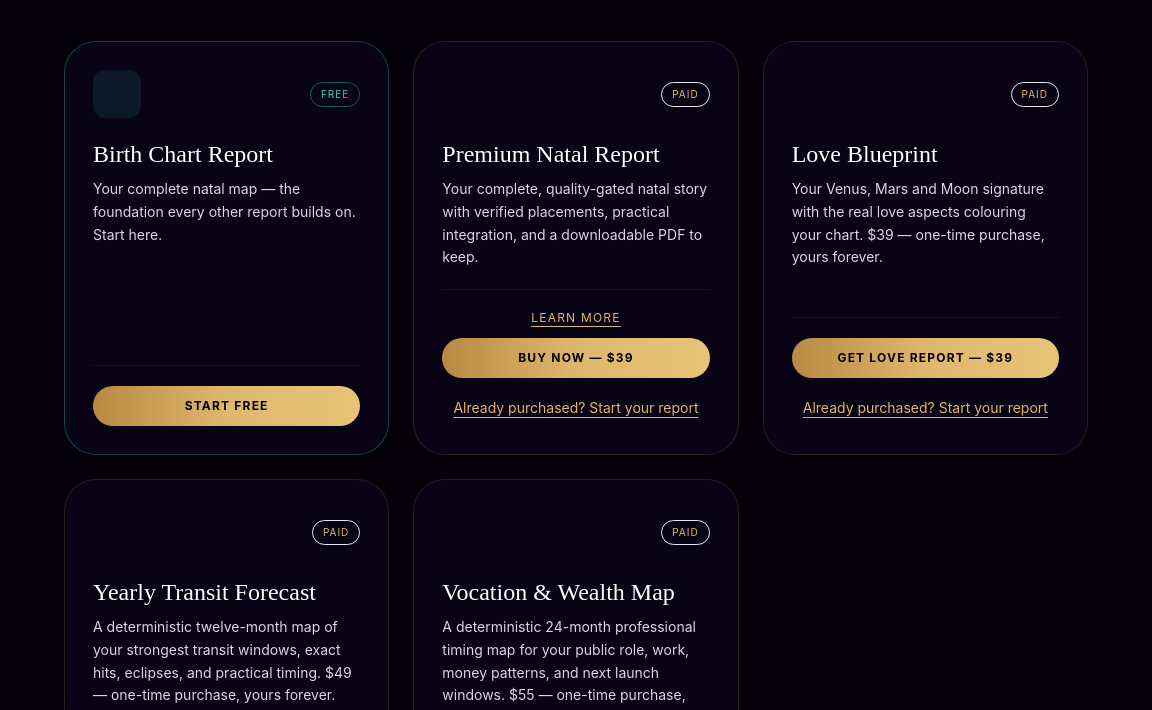
ReportsView paid-report delivery gate › shows rejected as a truthful non-ready state without dossier controls
(page scrolled)
Click the button "BUY NOW — $39" at coordinates (576, 358), box [442,338,710,378]
(page scrolled)
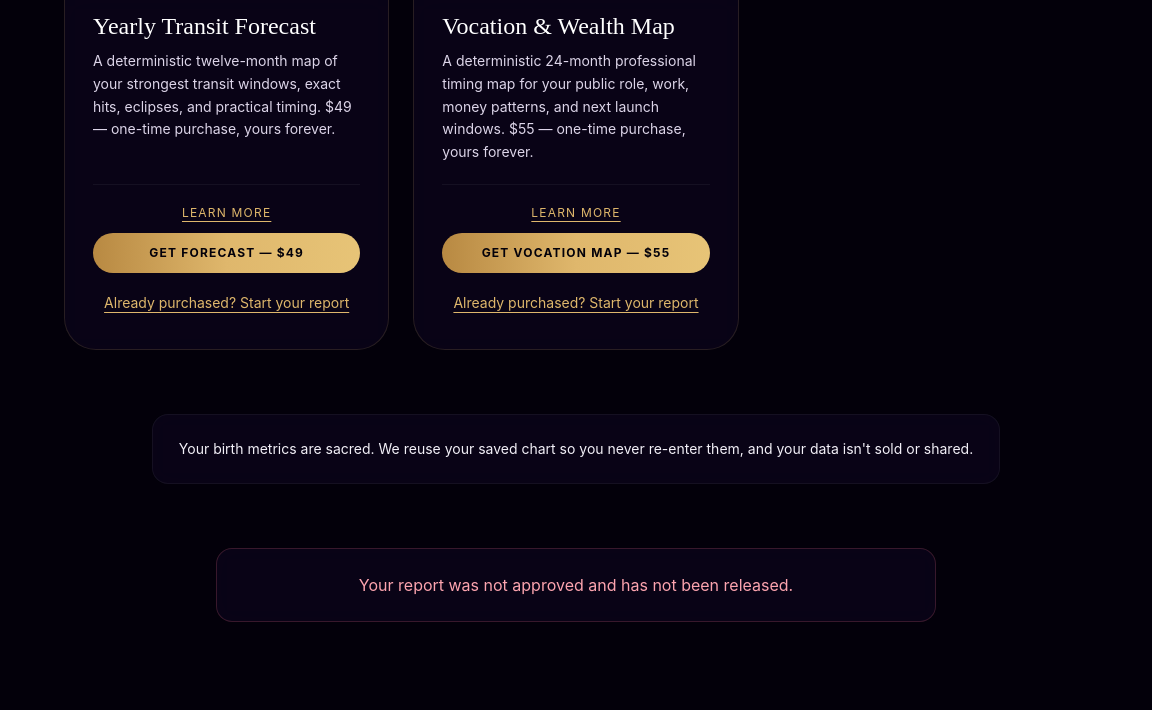
Expected: the text "Your report was not approved and has not been released." is shown, [216,548,936,622]
